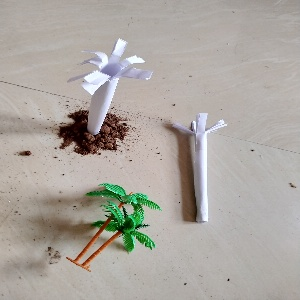plant: (55, 178, 150, 270)
weed: (162, 101, 262, 236), (75, 34, 141, 140)
